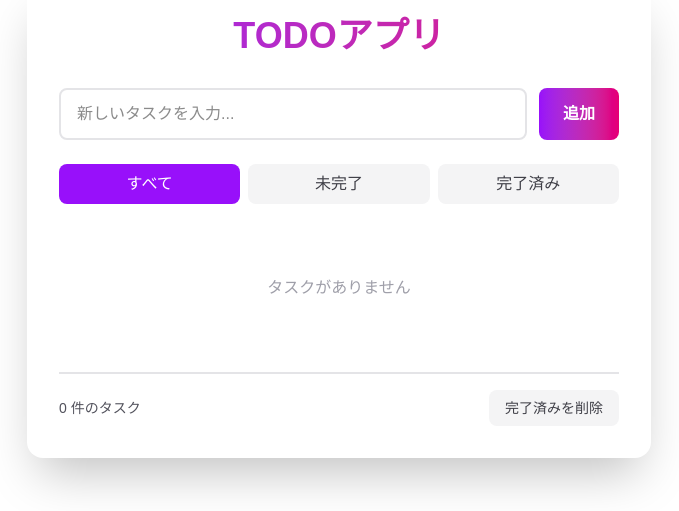
Test: TodoList › タスクの完了切り替え › チェックボックスをクリックするとタスクが完了状態になること
Type "テストタスク" into the field with placeholder "新しいタスクを入力..." at [293, 114], box [59,88,527,140]
Then press Enter
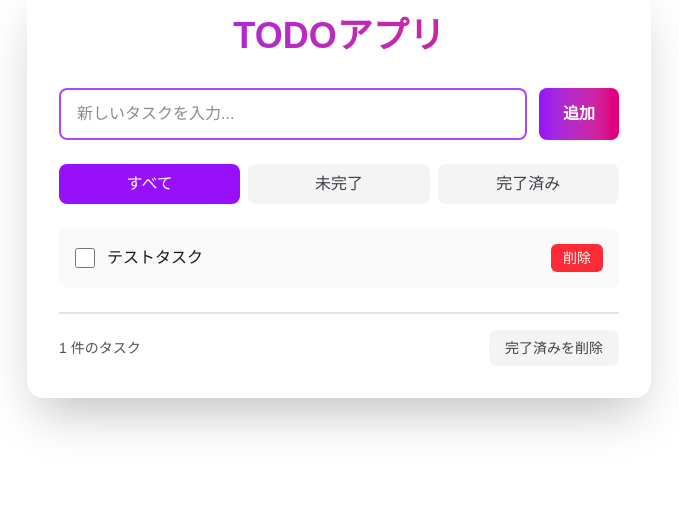
Expected: the checkbox is not checked
Click the checkbox at [85, 258], box [75,248,95,268]
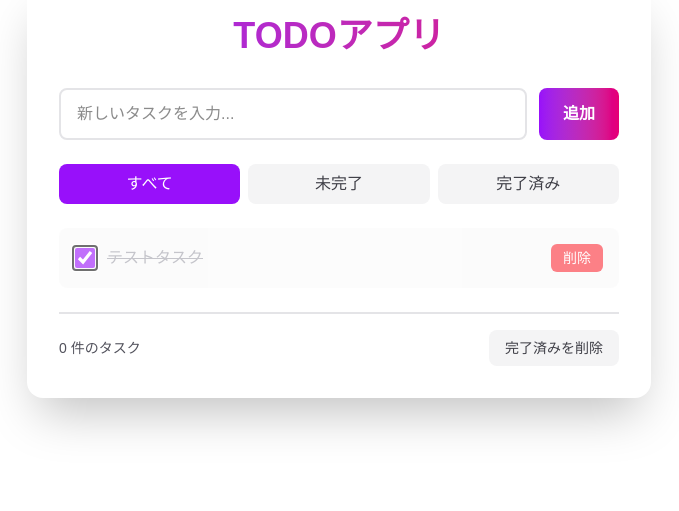
Expected: the checkbox is checked, [75,248,95,268]
Expected: the text "0 件のタスク" is shown, [59,338,141,358]
